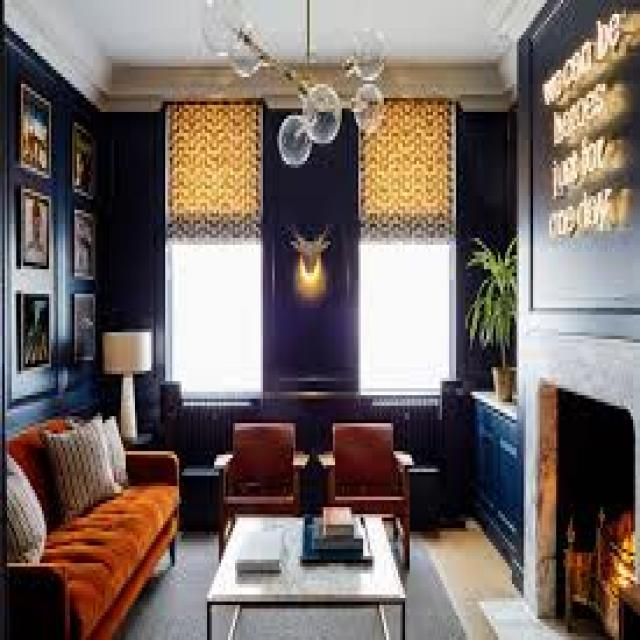Chair: (326, 408, 416, 524), (222, 413, 298, 529)
Lamp: (229, 0, 389, 174), (96, 316, 158, 450)
Sofa: (0, 402, 184, 637)
Table: (203, 513, 415, 640)
